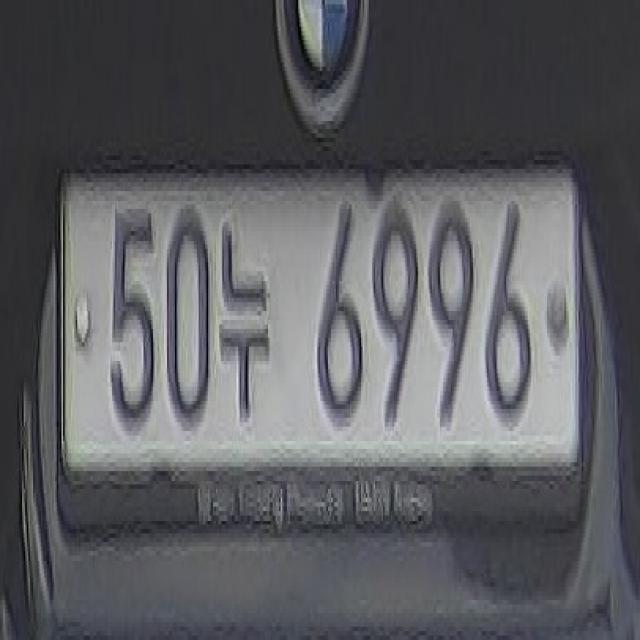0: (164, 202, 214, 436)
5: (102, 200, 160, 432)
6: (483, 188, 538, 438), (313, 191, 367, 441)
9: (422, 191, 474, 443), (370, 191, 418, 440)
license_plate: (48, 119, 592, 526)
nu: (217, 213, 276, 433)
